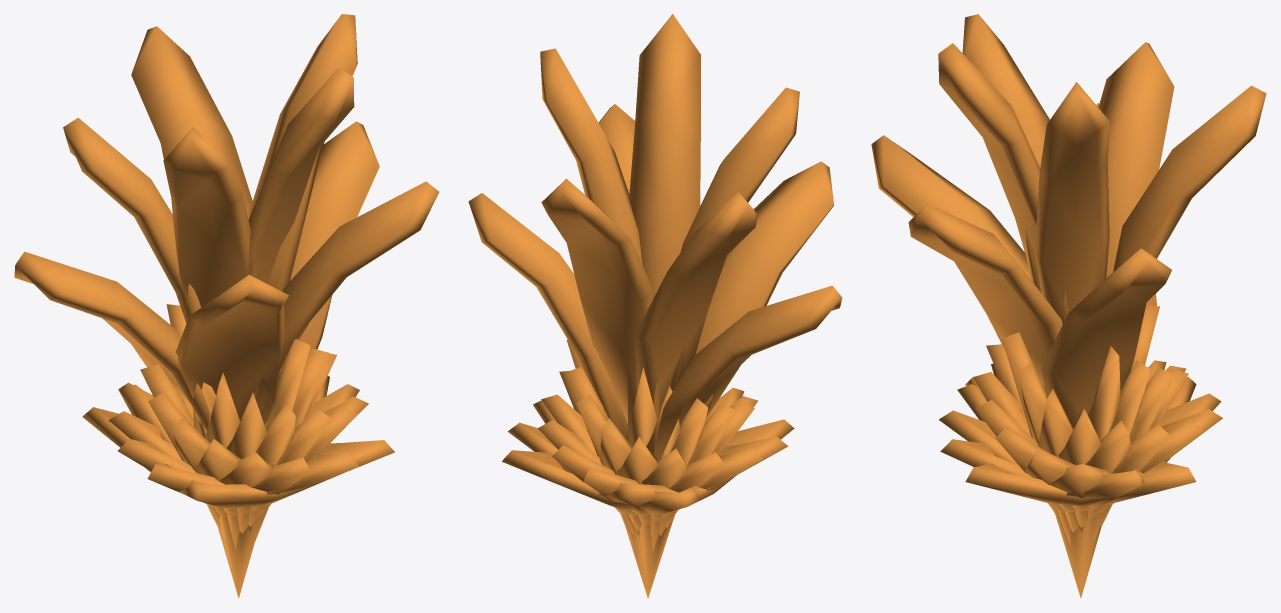
The model's file is bad_plant.dae.
The picture shows the model from 3 angles, left to right: view 1: azimuth 30°, elevation 25°; view 2: azimuth 150°, elevation 25°; view 3: azimuth 270°, elevation 25°; orthographic projection. The views are drawn at different scales.
Parts seen in each view (by area): view 1: bad_plant; view 2: bad_plant; view 3: bad_plant.
Boxes of the visible parts, x1,y1,x2,y2 form: bad_plant: [14, 14, 439, 598]; bad_plant: [468, 14, 842, 598]; bad_plant: [871, 14, 1266, 598].
Bounding box in the file's own units: 0.5227 × 0.4743 × 0.7602.
